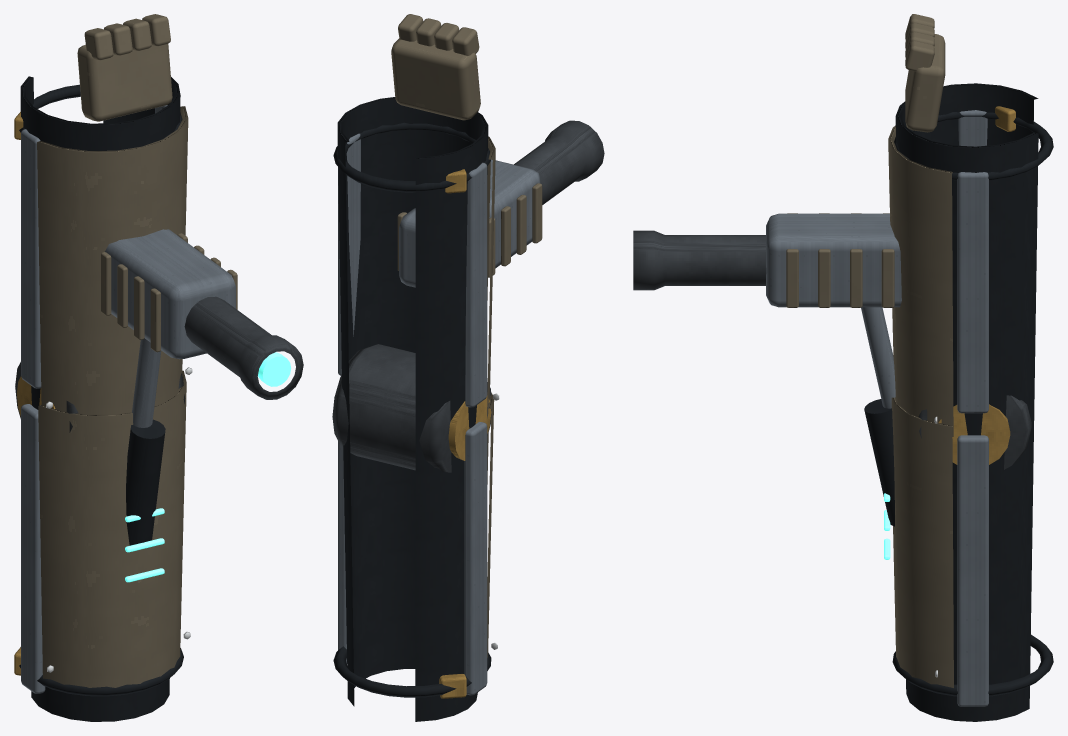
Rendered from exo-arm.lod1.glb.
3 views of the same model, side by side, from view 1: azimuth 30°, elevation 25°; view 2: azimuth 150°, elevation 25°; view 3: azimuth 270°, elevation 25° (orthographic). The views are drawn at different scales.
Parts seen in each view (by area): view 1: ceramic / ceramic composite panel, alloy / machined anodized alloy, polymer / stippled polymer, darksteel / oil-blackened fittings, energy / emissive field channel, brass / polished brass furniture; view 2: polymer / stippled polymer, alloy / machined anodized alloy, darksteel / oil-blackened fittings, ceramic / ceramic composite panel, brass / polished brass furniture; view 3: polymer / stippled polymer, ceramic / ceramic composite panel, alloy / machined anodized alloy, darksteel / oil-blackened fittings, brass / polished brass furniture.
Part boxes in pixels (<box>): ceramic / ceramic composite panel: <box>37,14,237,687</box>; alloy / machined anodized alloy: <box>21,105,235,693</box>; polymer / stippled polymer: <box>19,76,183,721</box>; darksteel / oil-blackened fittings: <box>15,296,303,432</box>; energy / emissive field channel: <box>125,352,291,582</box>; brass / polished brass furniture: <box>14,111,55,675</box>; polymer / stippled polymer: <box>333,97,491,721</box>; alloy / machined anodized alloy: <box>338,133,540,695</box>; darksteel / oil-blackened fittings: <box>332,120,604,472</box>; ceramic / ceramic composite panel: <box>391,14,542,657</box>; brass / polished brass furniture: <box>439,169,491,698</box>; polymer / stippled polymer: <box>864,83,1053,721</box>; ceramic / ceramic composite panel: <box>786,14,953,687</box>; alloy / machined anodized alloy: <box>766,110,988,706</box>; darksteel / oil-blackened fittings: <box>633,230,1031,469</box>; brass / polished brass furniture: <box>938,106,1015,464</box>.
Bounding box in the file's own units: 0.155 × 0.6896 × 0.3959.
Materials: 7 (6 with a texture image).
